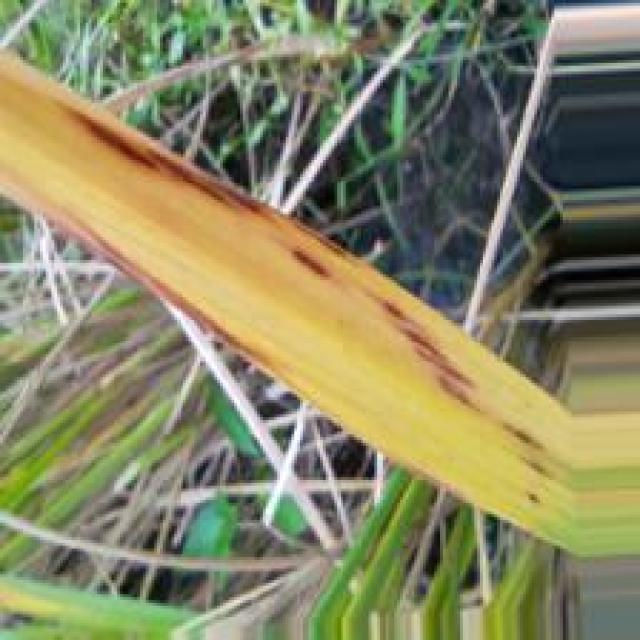Narrow_Brown_Leaf_Spot: (1, 163, 315, 387), (59, 105, 350, 266), (374, 290, 477, 419), (285, 247, 329, 286)
